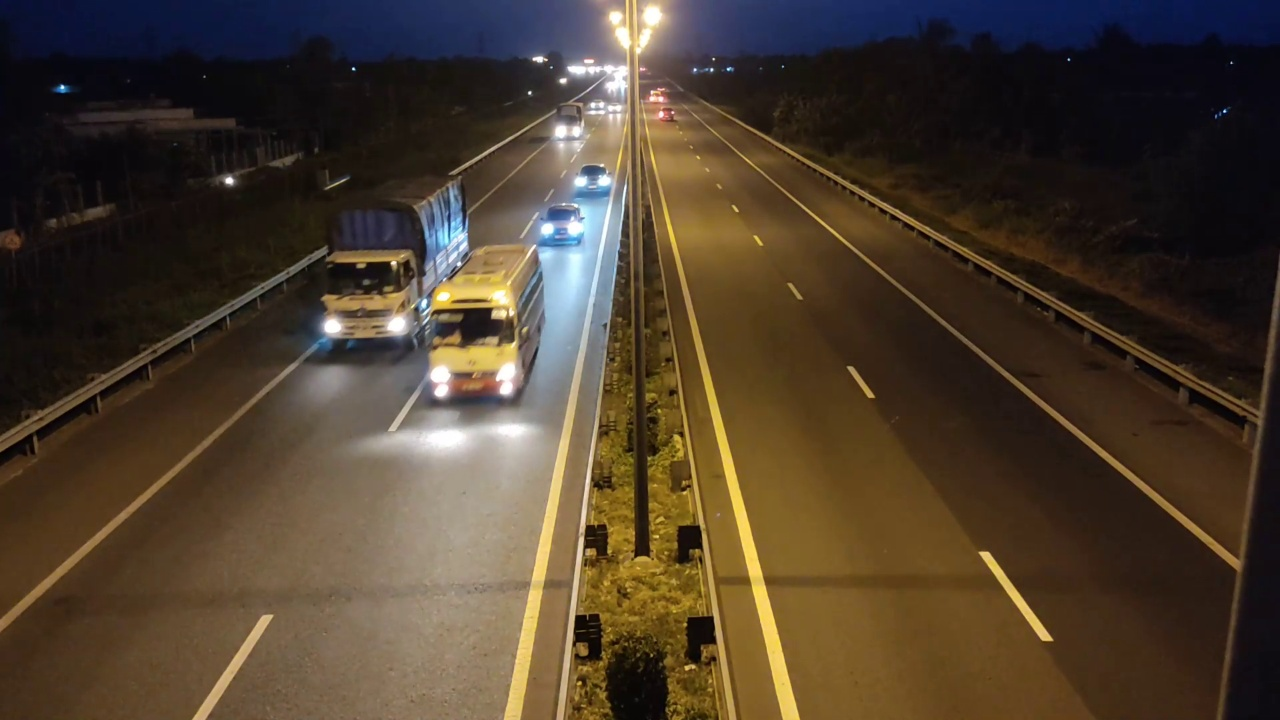bus: (424, 243, 544, 406)
car: (537, 202, 585, 246), (574, 163, 612, 194)
truck: (319, 173, 471, 355)
